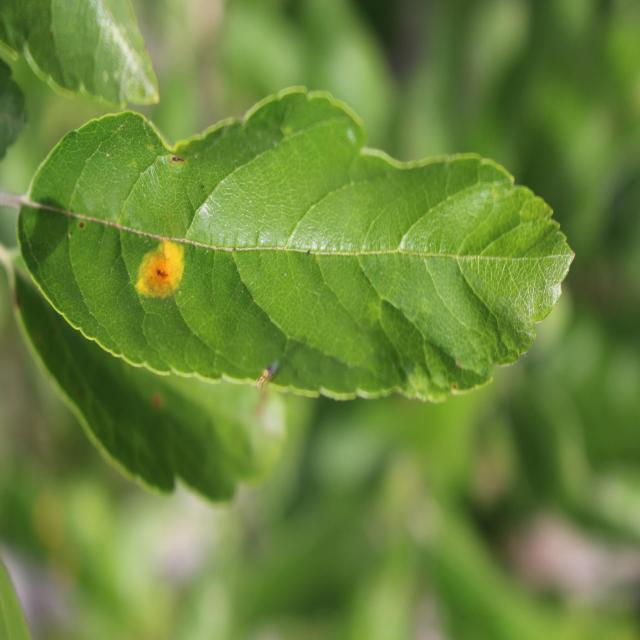Rust: (135, 244, 186, 306), (148, 389, 170, 416)
